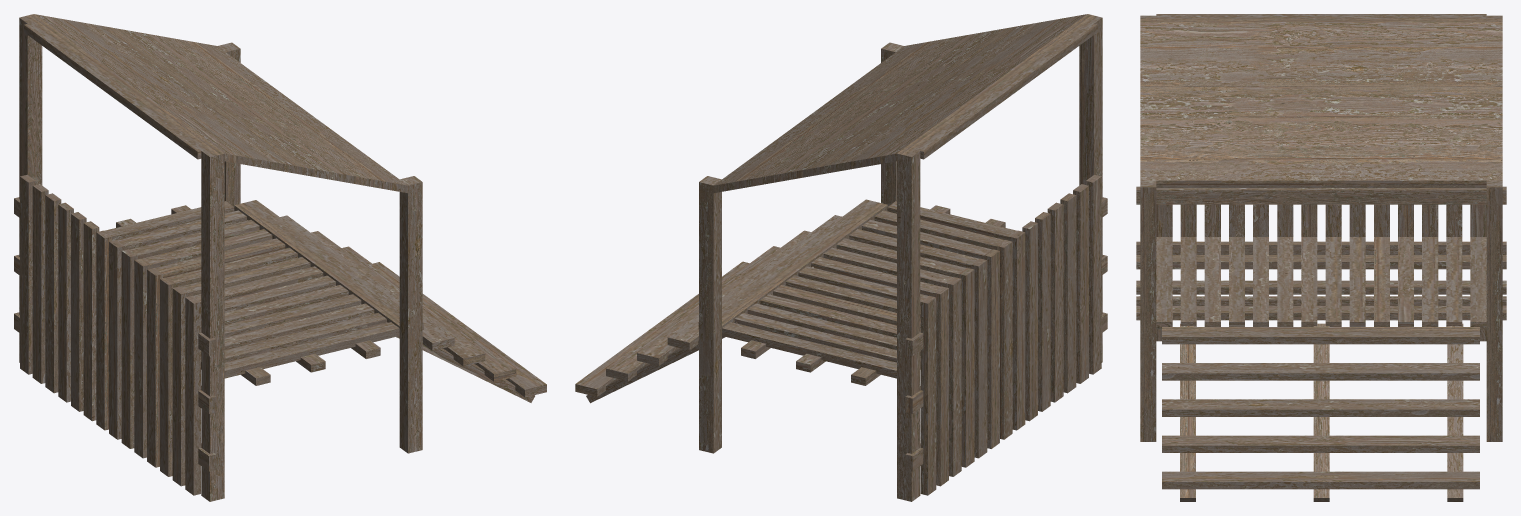
File: tower.fbx
3 renders of one model, left to right at view 1: azimuth 30°, elevation 25°; view 2: azimuth 150°, elevation 25°; view 3: azimuth 270°, elevation 25°, orthographic. The views are drawn at different scales.
Parts seen in each view (by area): view 1: Cube.004; view 2: Cube.004; view 3: Cube.004.
Part boxes in pixels (bbox=[...]): Cube.004: bbox=[14, 14, 546, 501]; Cube.004: bbox=[575, 14, 1107, 501]; Cube.004: bbox=[1136, 14, 1506, 501].
Bounding box in the file's own units: 1941 × 1796 × 1840.
